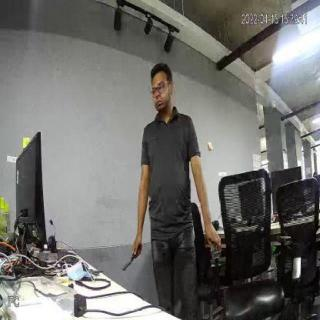knife: (122, 253, 140, 275)
